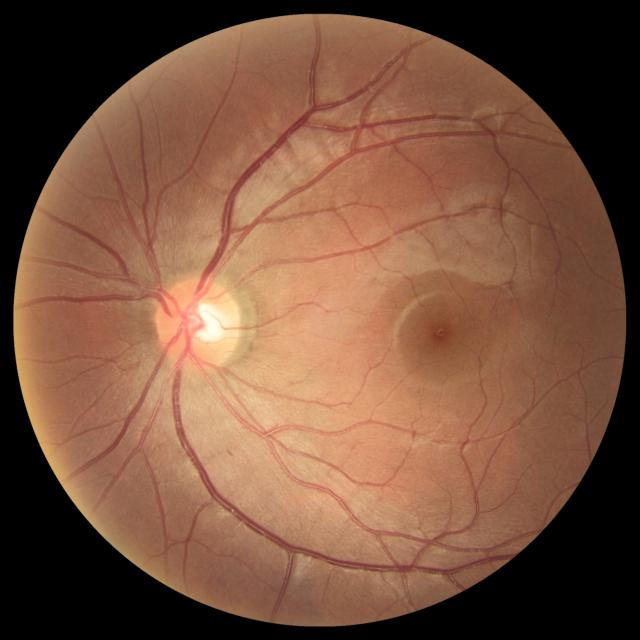OC: (183, 302, 222, 342)
OD: (156, 278, 243, 372)
